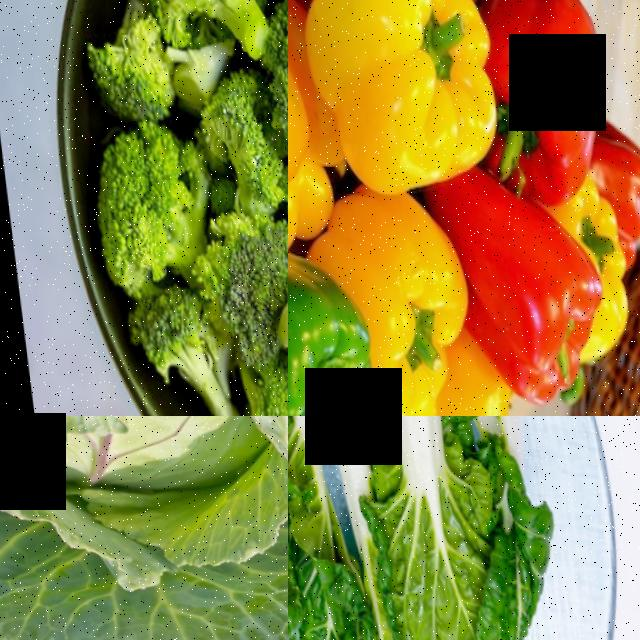bell pepper: (308, 0, 489, 186), (487, 0, 609, 188), (474, 223, 600, 381), (344, 217, 448, 381), (288, 265, 363, 416), (288, 63, 319, 227), (433, 346, 501, 416)
bok choy: (318, 416, 544, 640)
broccoli: (83, 116, 213, 283), (203, 221, 284, 347), (124, 0, 273, 54)
cabbage: (0, 416, 288, 640)
